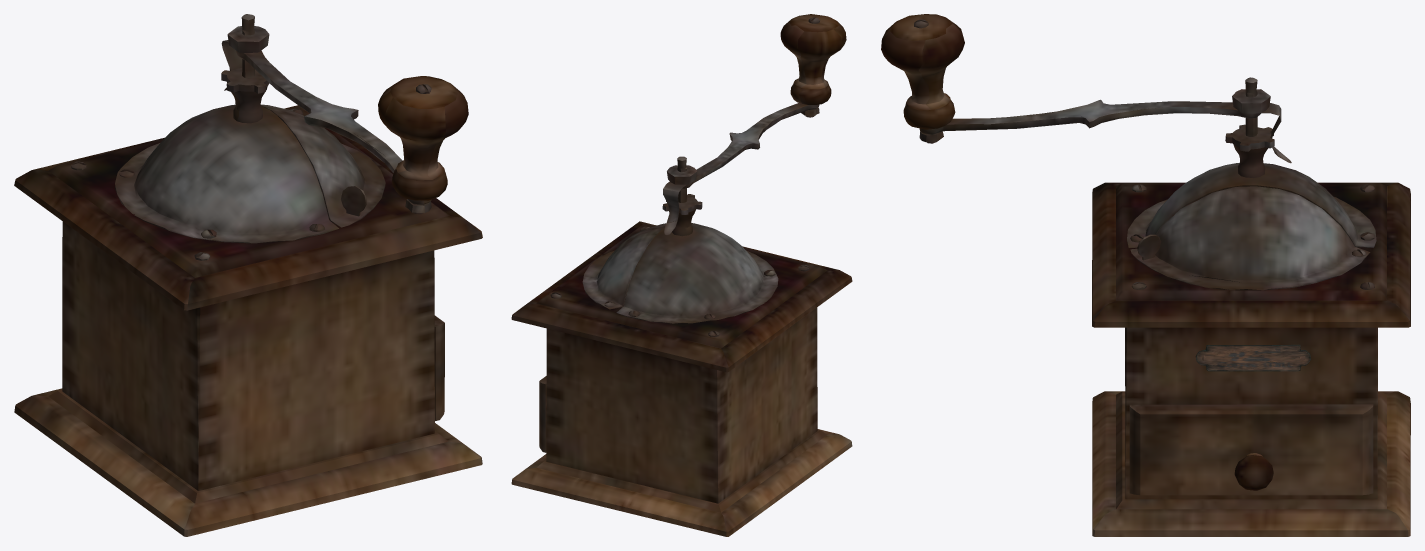
The model's file is coffee-mill.lod1.glb.
The picture shows the model from 3 angles, left to right: view 1: azimuth 30°, elevation 25°; view 2: azimuth 150°, elevation 25°; view 3: azimuth 270°, elevation 25°; orthographic projection. The views are drawn at different scales.
Visible parts, largest first — view 1: coffee-mill; view 2: coffee-mill; view 3: coffee-mill.
Boxes of the visible parts, x1,y1,x2,y2 form: coffee-mill: (14, 14, 482, 536); coffee-mill: (511, 14, 852, 536); coffee-mill: (881, 14, 1410, 536).
Bounding box in the file's own units: 0.2243 × 0.3309 × 0.3549.
2 materials, 2 textured.
